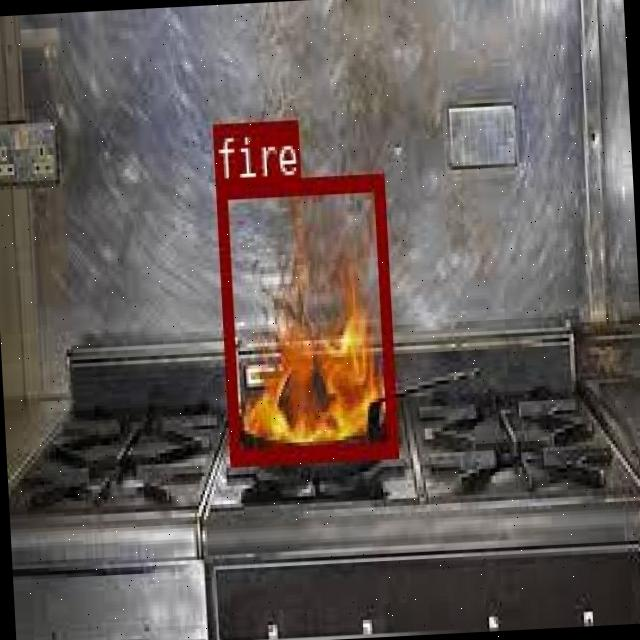fire: (216, 172, 396, 464)
